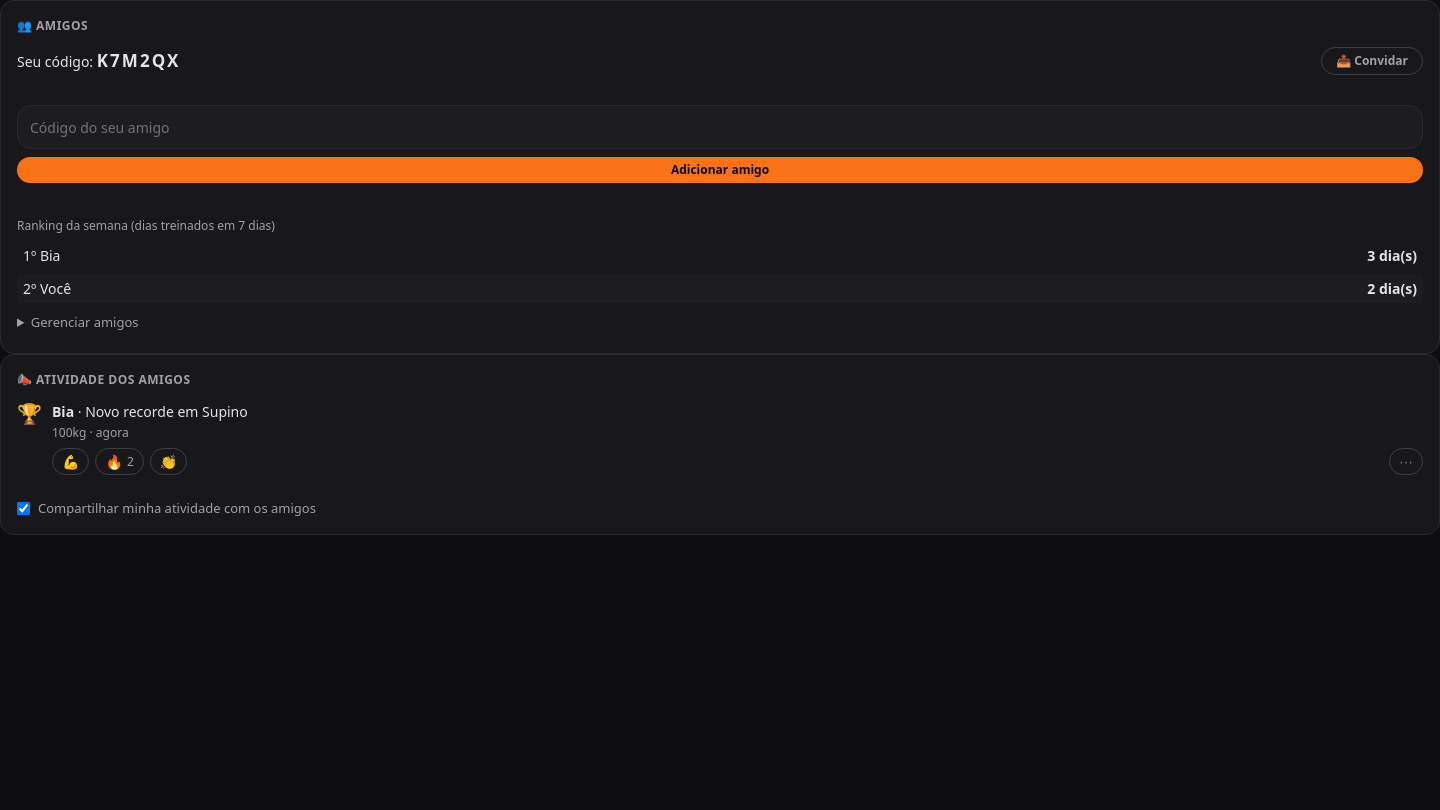
Test: Friends › denunciar publicação de amigo: escolhe o motivo, envia e esconde o botão
This screenshot has width=1440, height=810.
Click the button named "Denunciar publicação". click: (1406, 461)
box: x1=1389 y1=448 x2=1423 y2=474
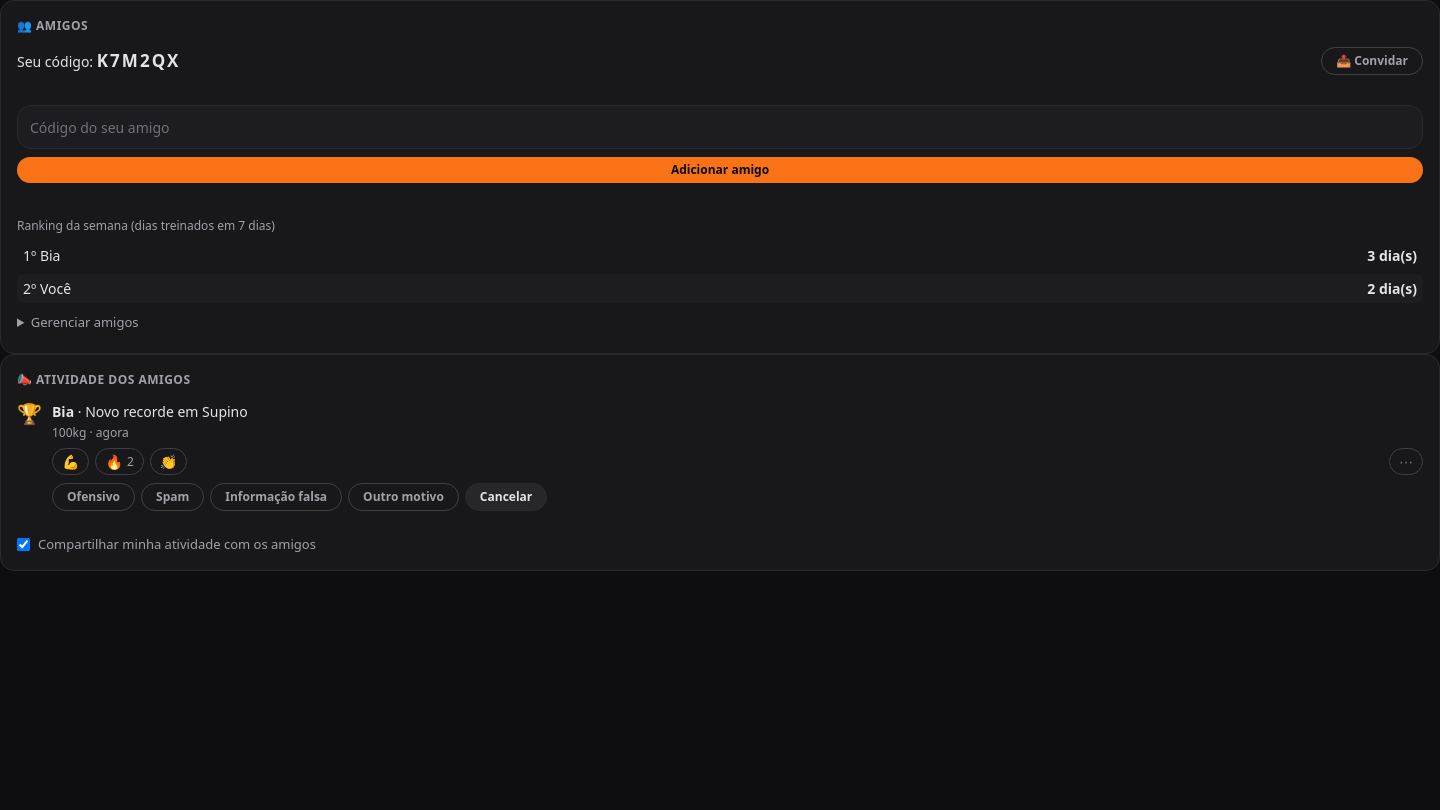
Click the button "Ofensivo". click: (94, 496)
box: x1=52 y1=482 x2=135 y2=510
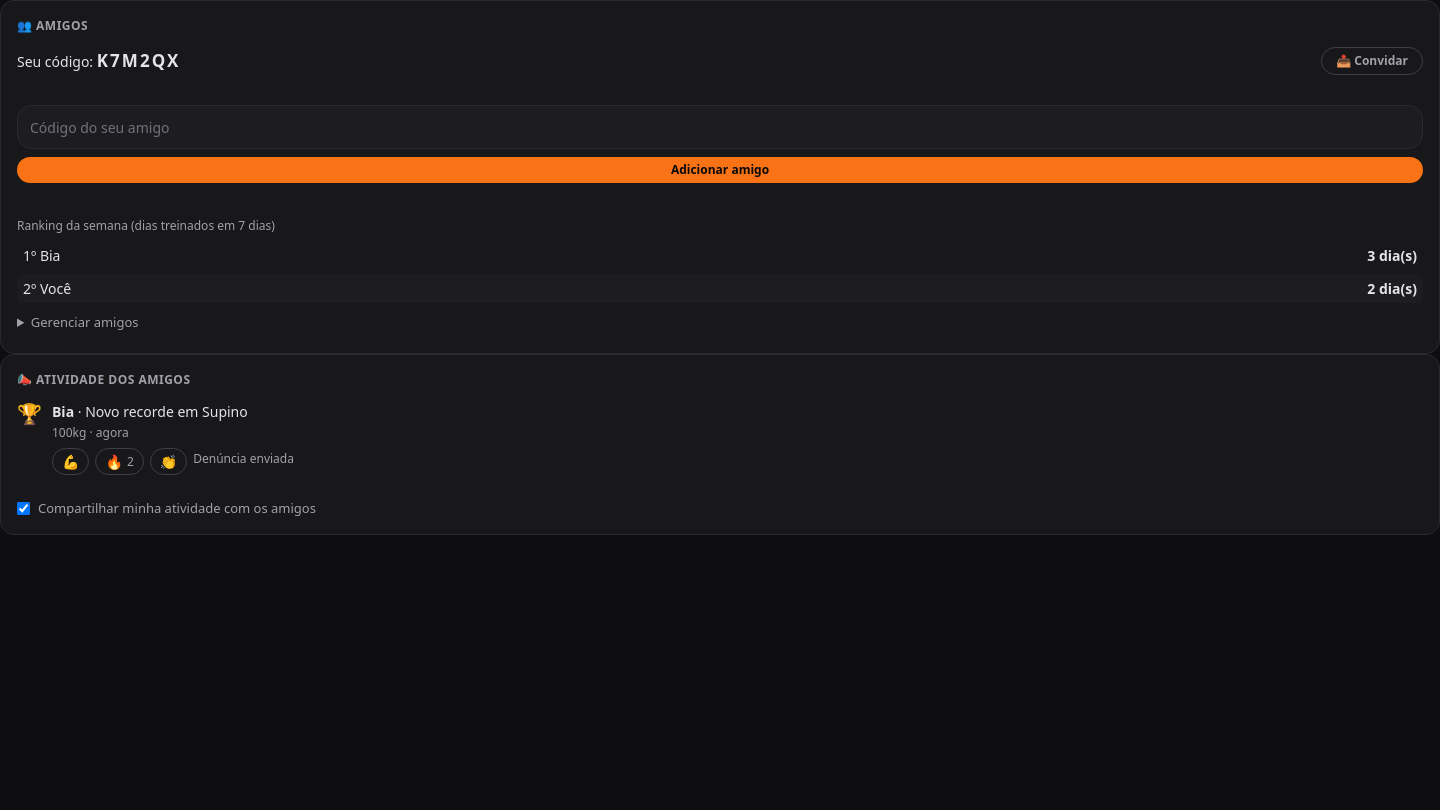
Result: the text "Denúncia enviada" is shown at x1=193 y1=450 x2=294 y2=474
